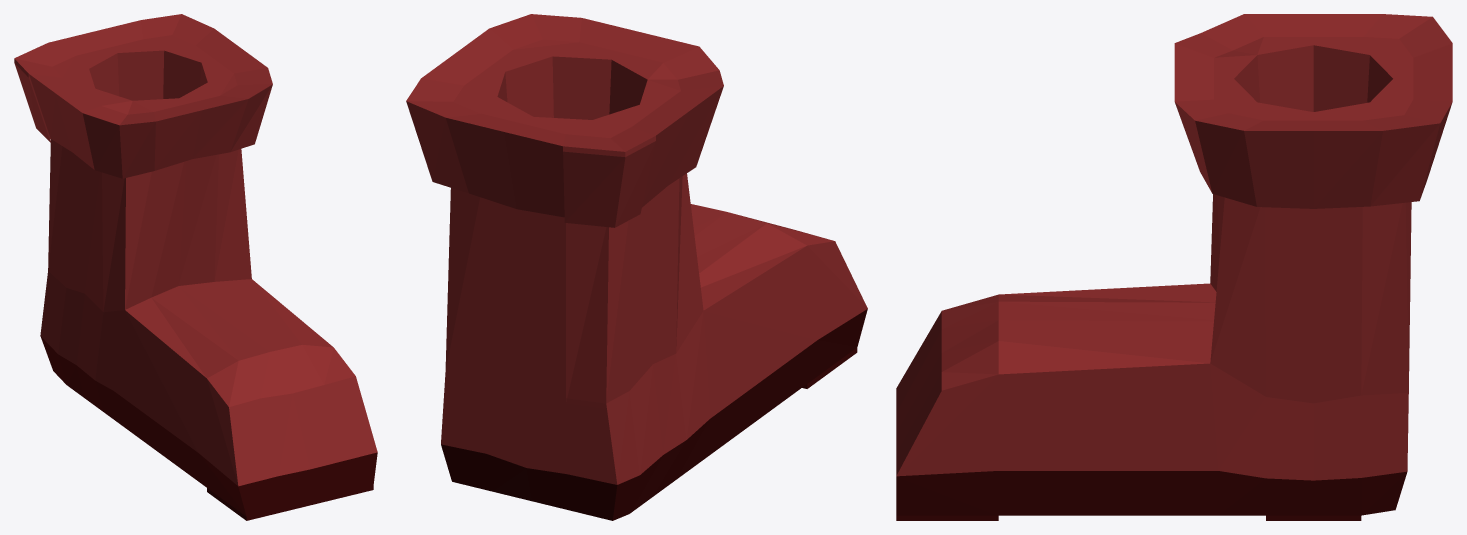
Rendered from boot.fbx.
The picture shows the model from 3 angles, left to right: view 1: azimuth 30°, elevation 25°; view 2: azimuth 150°, elevation 25°; view 3: azimuth 270°, elevation 25°; orthographic projection. The views are drawn at different scales.
Parts seen in each view (by area): view 1: pCube1; view 2: pCube1; view 3: pCube1.
Part boxes in pixels (x1=…): pCube1: x1=14, y1=14, x2=377, y2=520; pCube1: x1=406, y1=14, x2=867, y2=520; pCube1: x1=896, y1=14, x2=1452, y2=520.
Size of the model in its own units: 6.28 by 10.27 by 12.64.
